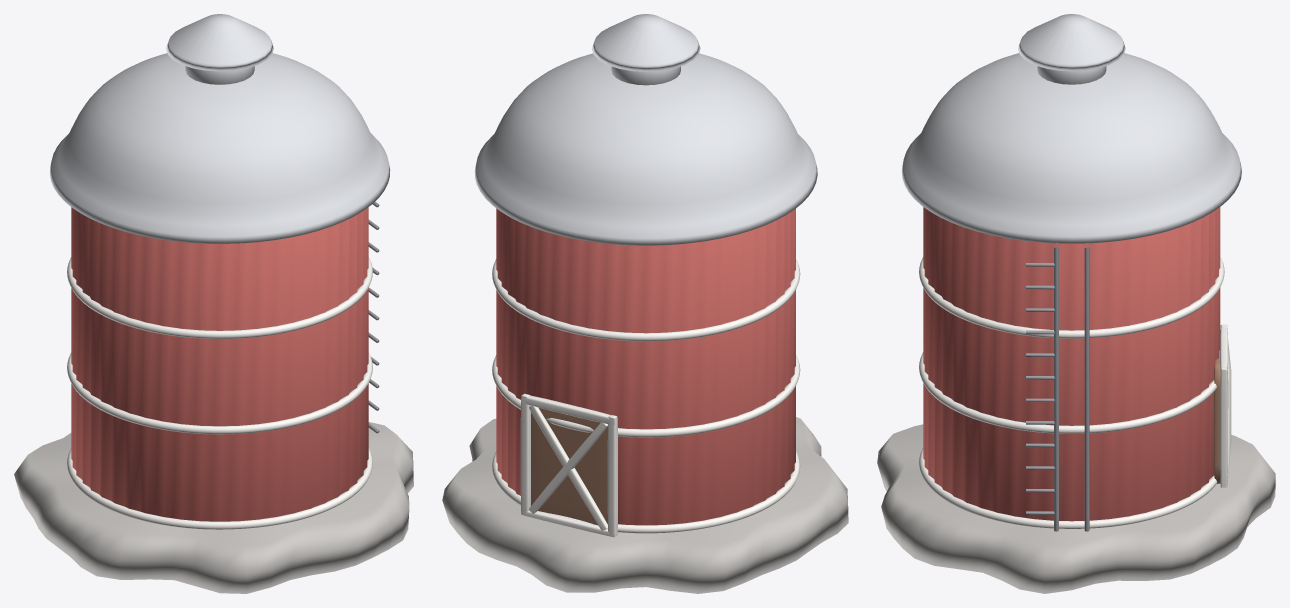
Rendered from HarvestSilo.glb.
The picture shows the model from 3 angles, left to right: view 1: azimuth 30°, elevation 25°; view 2: azimuth 150°, elevation 25°; view 3: azimuth 270°, elevation 25°; orthographic projection.
Parts seen in each view (by area): view 1: SiloBody, SiloRoof, SiloStone, SiloTrim, SiloLadder; view 2: SiloBody, SiloRoof, SiloStone, SiloTrim, SiloDoor; view 3: SiloBody, SiloRoof, SiloStone, SiloTrim, SiloLadder, SiloDoor.
Boxes of the visible parts, left/top/right/bottom form: SiloBody: left=71, top=207, right=368, bottom=521; SiloRoof: left=50, top=14, right=390, bottom=243; SiloStone: left=14, top=422, right=413, bottom=593; SiloTrim: left=67, top=257, right=372, bottom=529; SiloLadder: left=368, top=201, right=379, bottom=433; SiloBody: left=496, top=208, right=795, bottom=525; SiloRoof: left=474, top=14, right=817, bottom=245; SiloStone: left=442, top=417, right=848, bottom=593; SiloTrim: left=492, top=259, right=800, bottom=537; SiloDoor: left=531, top=408, right=607, bottom=525; SiloBody: left=923, top=207, right=1220, bottom=521; SiloRoof: left=901, top=14, right=1241, bottom=243; SiloStone: left=877, top=424, right=1275, bottom=593; SiloTrim: left=919, top=257, right=1231, bottom=528; SiloLadder: left=1026, top=247, right=1089, bottom=531; SiloDoor: left=1214, top=350, right=1220, bottom=483.
Size of the model in its own units: 14.45 by 19.5 by 14.4.
